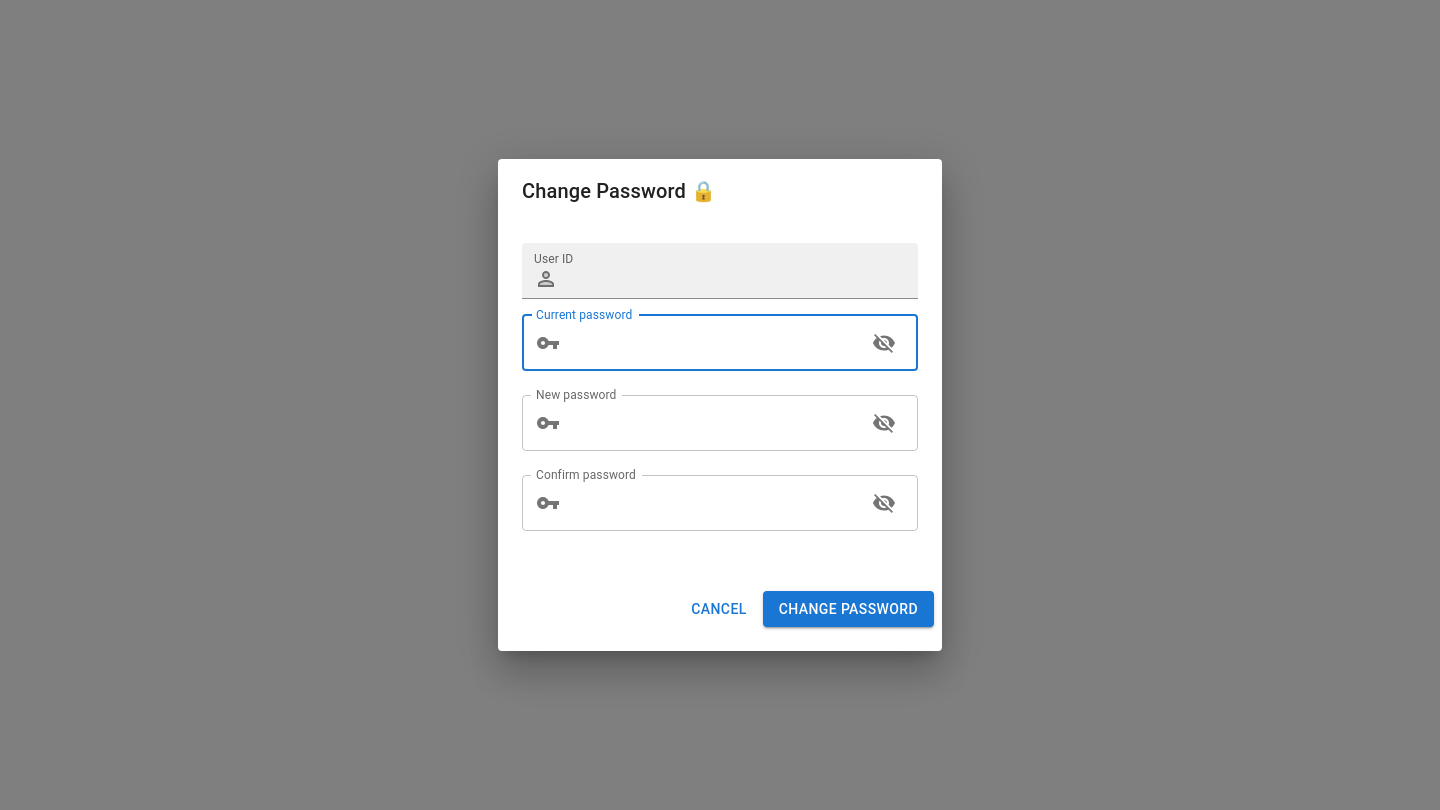
PasswordChangeDialog › behavior › ng Contains spaces
Type " 12345 " into the password field named "currentPassword". click: (712, 343)
box: x1=568 y1=315 x2=856 y2=371
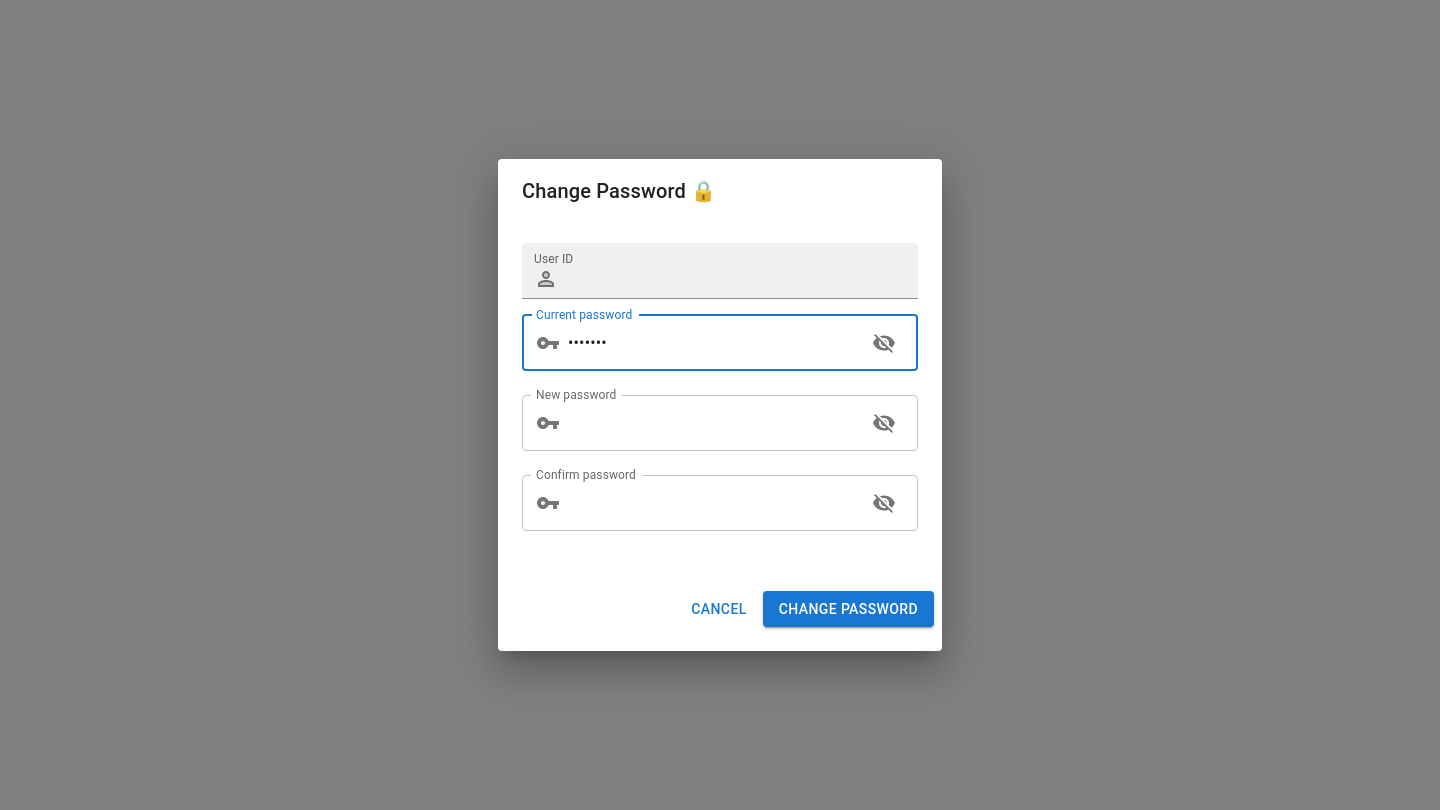
Type "54 3 21" into the password field named "newPassword1". click: (712, 423)
box: x1=568 y1=395 x2=856 y2=451
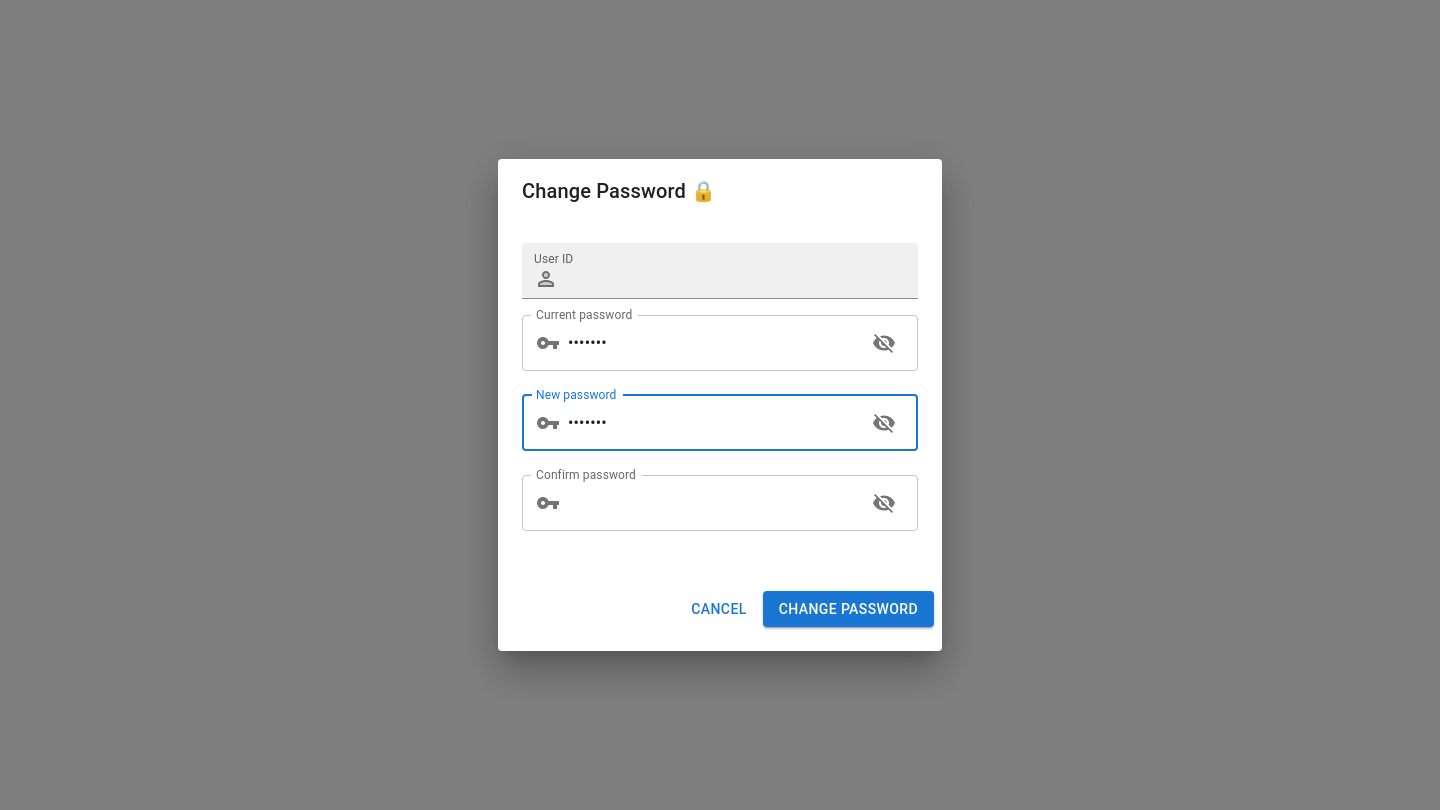
Type "54 3 21" into the password field named "newPassword2". click: (712, 503)
box: x1=568 y1=475 x2=856 y2=531
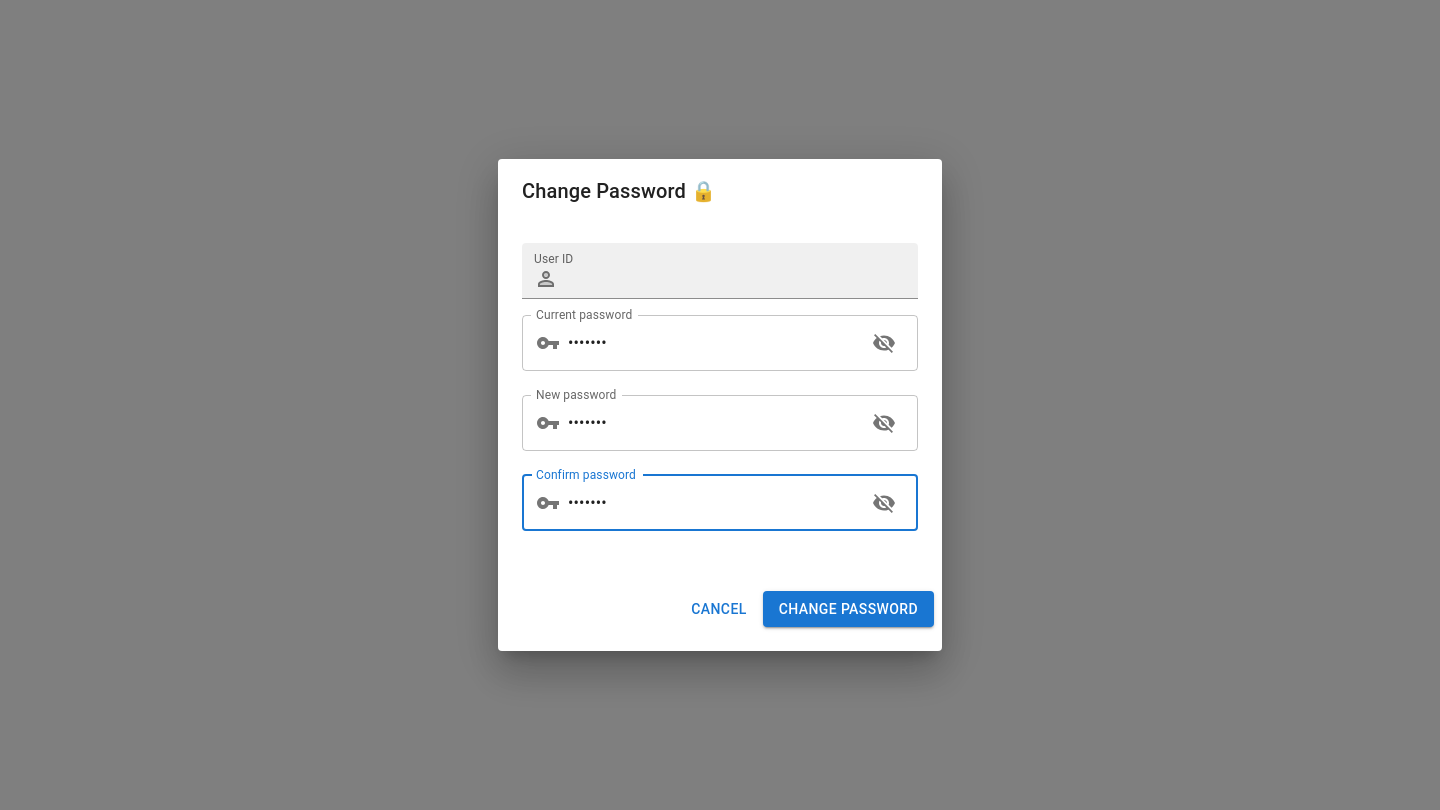
Click the button "Change Password". click: (848, 609)
box: x1=763 y1=591 x2=934 y2=627
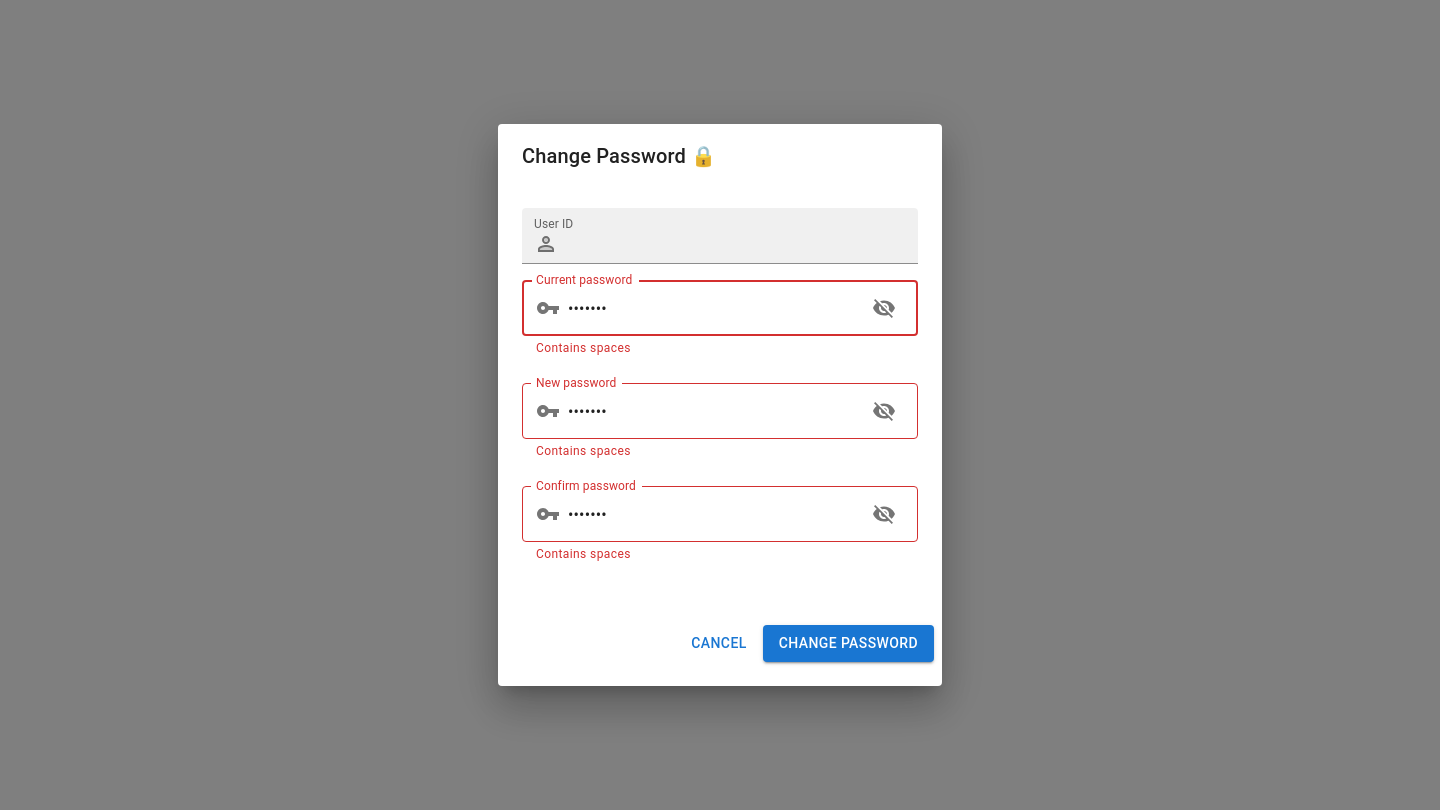
Check: the text "Contains spaces" below "Confirm password" is shown, box x1=536 y1=547 x2=631 y2=561
